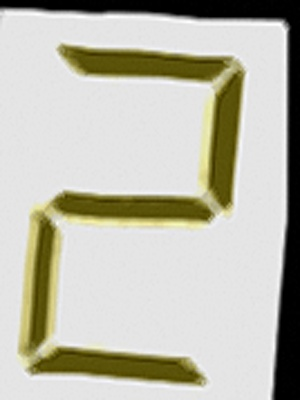two: (20, 10, 290, 395)
